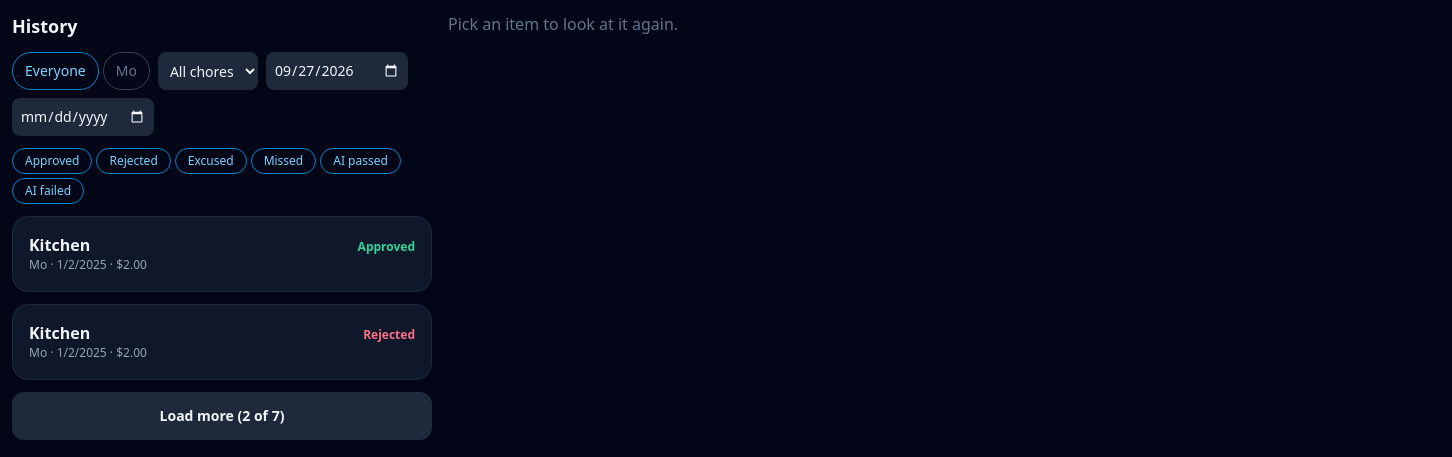
Test: admin History › lists decided items a parent can open again
expect the text "Kitchen" is shown 2 times: met, box x1=29 y1=233 x2=90 y2=257; x1=29 y1=321 x2=90 y2=345
expect the number of buttons "Approved" is 2: met, box x1=12 y1=148 x2=92 y2=174; x1=358 y1=239 x2=415 y2=255
Click the button "Kitchen Approved Mo · 1/2/2025 · $2.00". click: coordinates (60, 245)
box: x1=29 y1=233 x2=415 y2=273
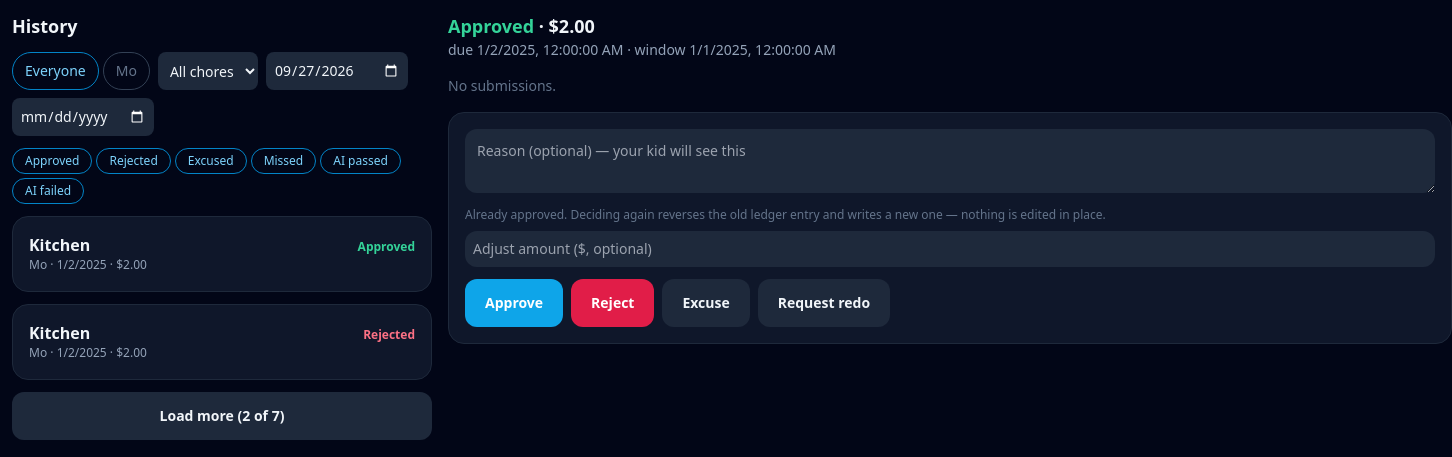
expect the button "Approve" is shown: met, box x1=465 y1=279 x2=563 y2=327
